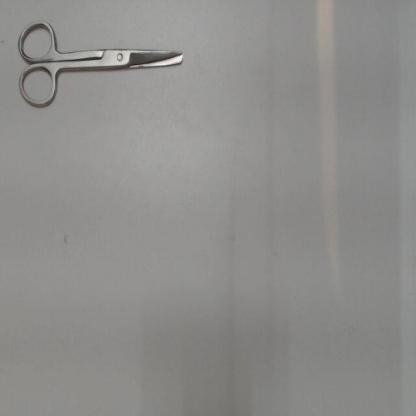Dressing Scissors: (10, 12, 192, 121)
